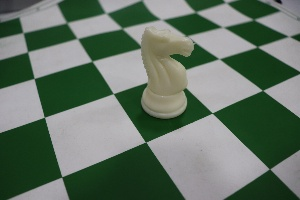white_horse: (130, 14, 197, 131)
